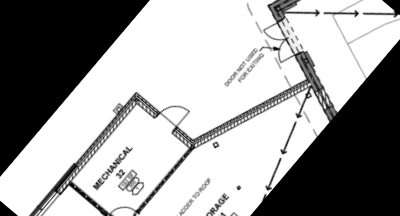door: (158, 95, 192, 128), (107, 197, 140, 216)
double door: (252, 18, 303, 67)
wall: (191, 50, 318, 185), (54, 96, 142, 198), (132, 96, 161, 122), (167, 127, 195, 151)
